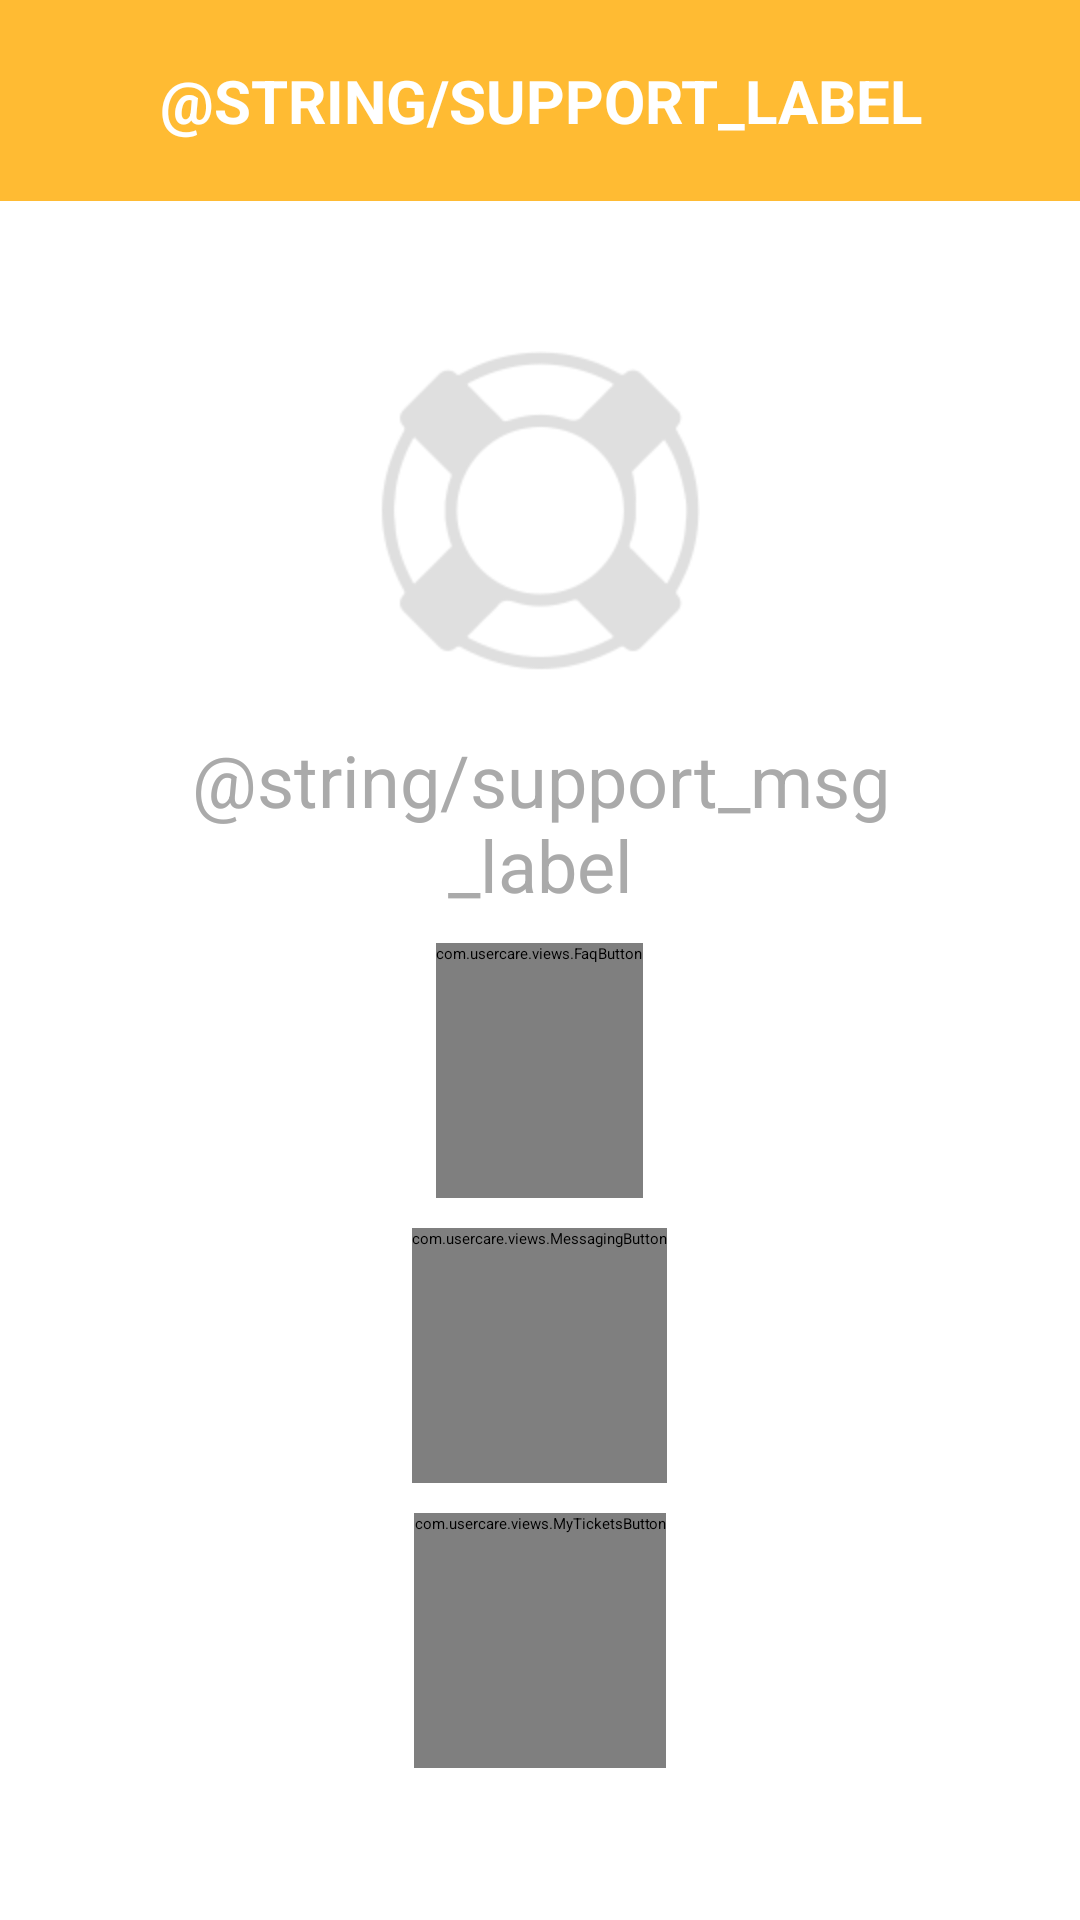

Point at icon controls on the screen. Image size 1080px x 1920px, points as (x,y).
lifesaver: (540,511)
